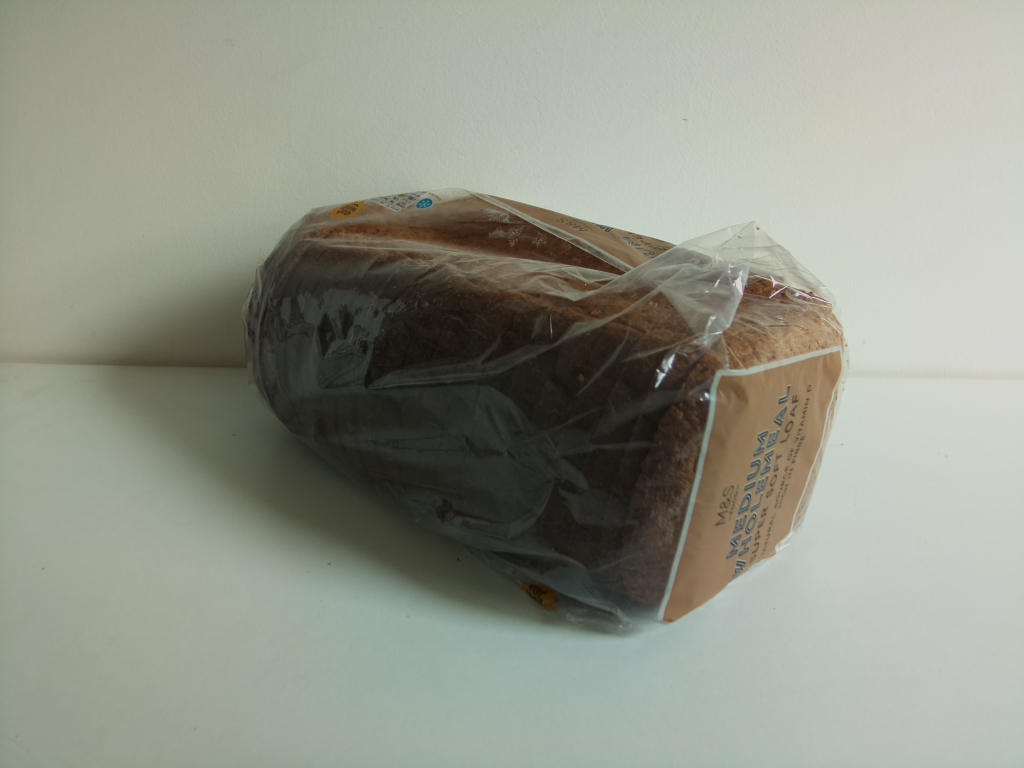bread: (245, 187, 847, 635)
